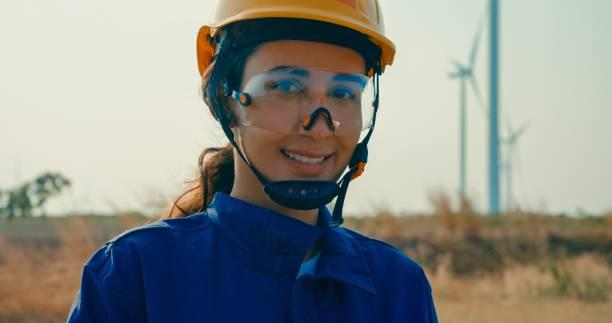goggle: (200, 65, 389, 130)
helmet: (187, 0, 406, 65)
vest: (69, 196, 440, 323)
